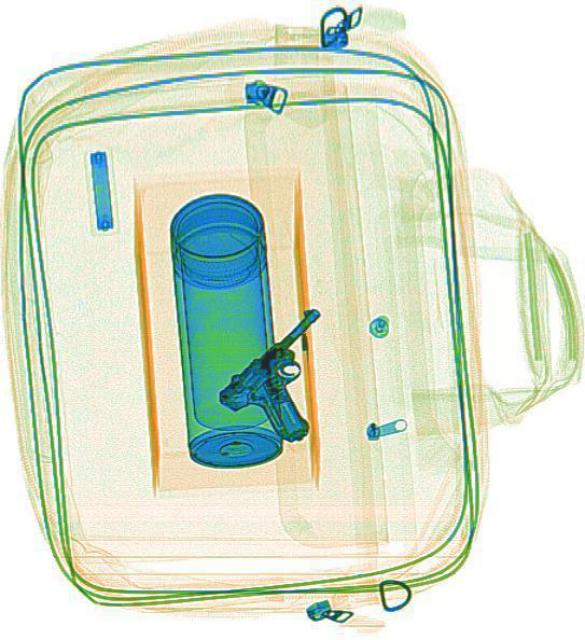Gun: (210, 300, 373, 462)
